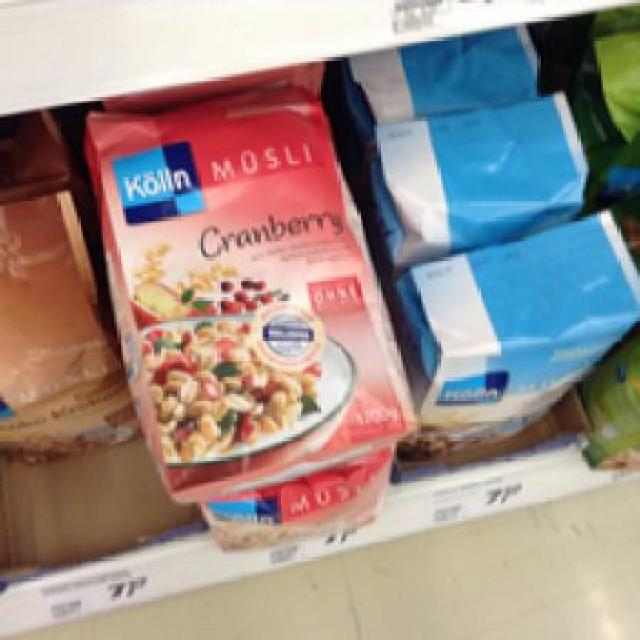Cereal: (85, 100, 418, 486)
